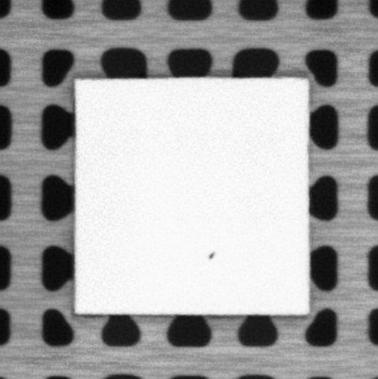DIE_INK: (208, 249, 215, 259)
